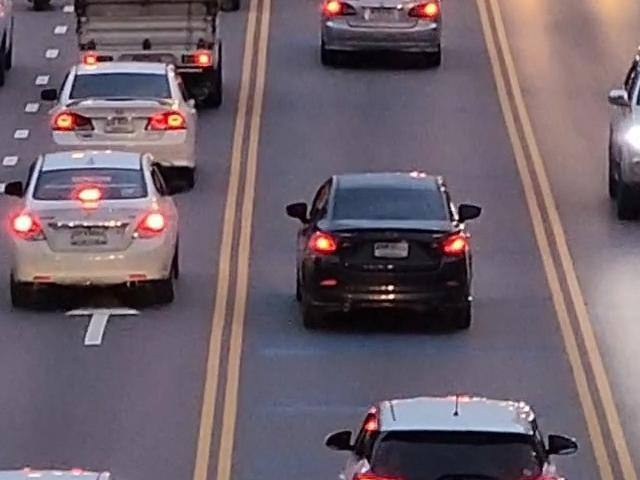car: (272, 146, 497, 343), (0, 148, 200, 315), (37, 55, 223, 202), (323, 385, 596, 480), (307, 0, 462, 66)
truck: (73, 0, 240, 108)
